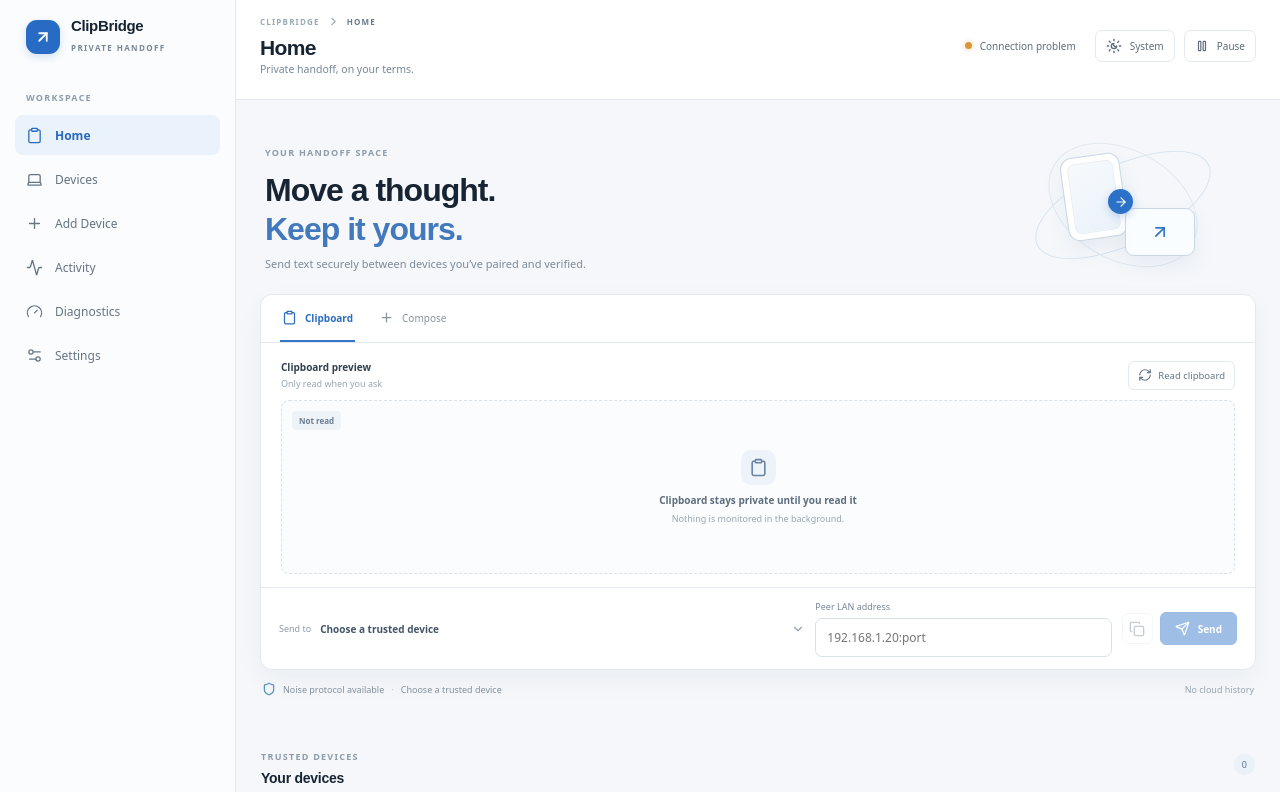
Test: desktop foundation › stops on a SAS mismatch without saving trust
Click the button "Add Device" at (118, 223), box top-left (15, 203), bottom-right (220, 243)
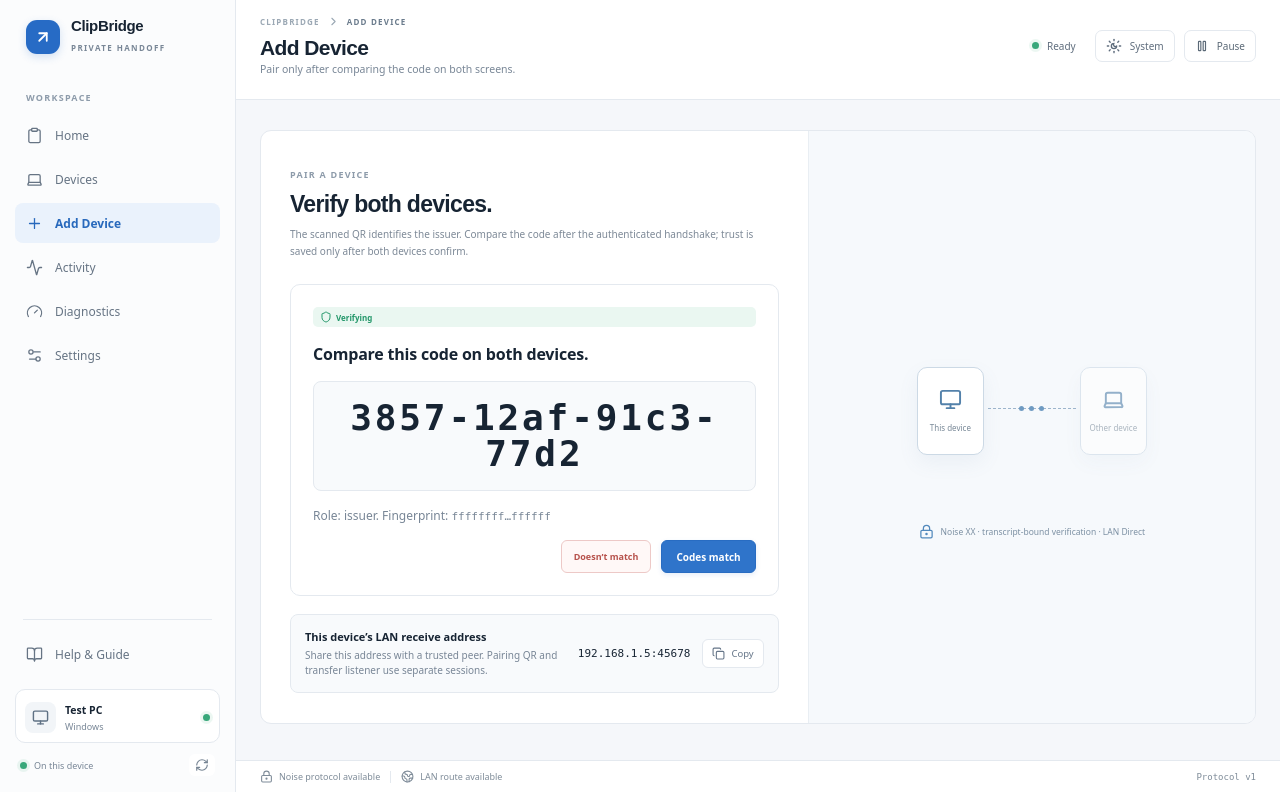
Click the button "Doesn’t match" at (606, 556), box top-left (561, 540), bottom-right (651, 573)
(page scrolled)
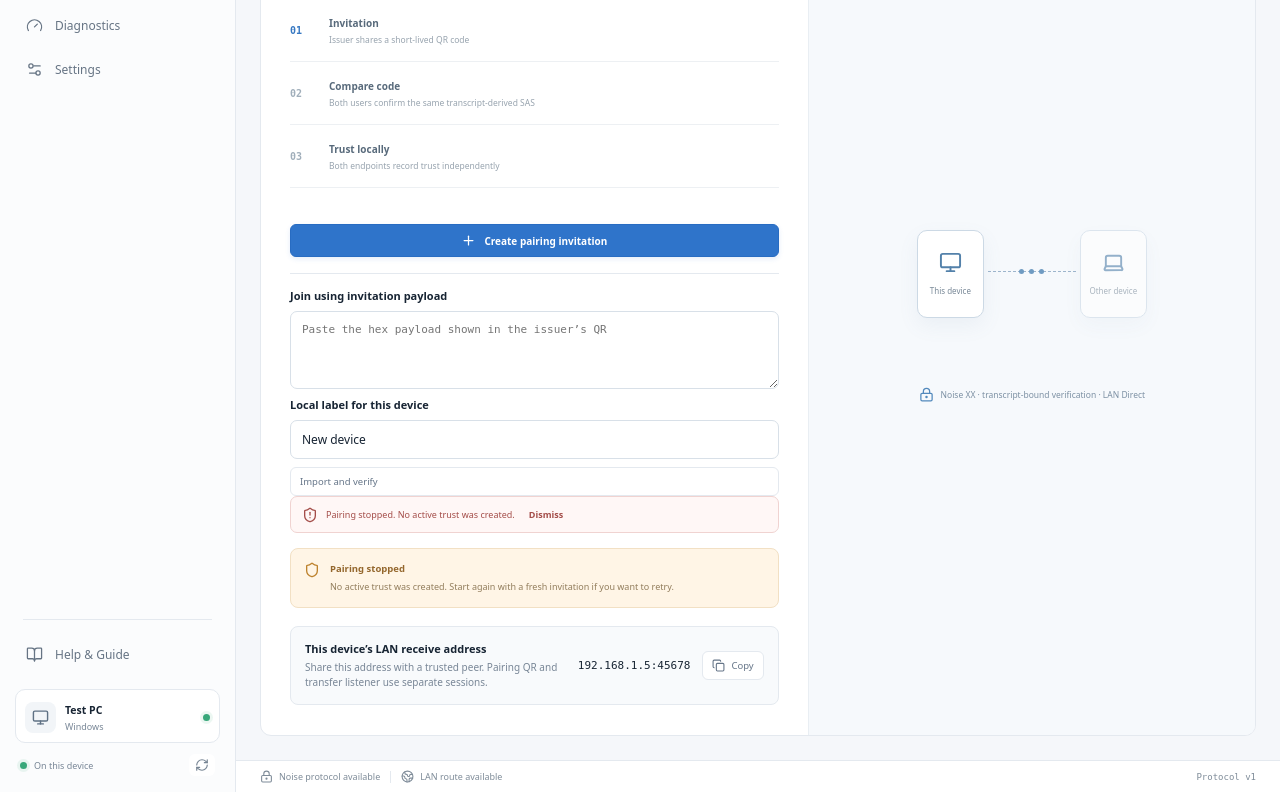
Now the text "Pairing stopped" is shown, box top-left (330, 562), bottom-right (405, 575)
